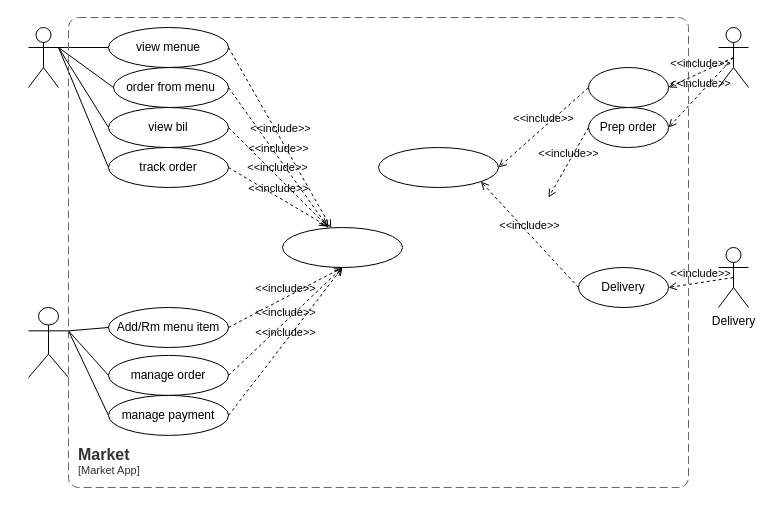
This 772x505 diagram has some shape labels left out. Each missing label, with the centre of its shape:
Admin: the point at 48,342
Chef: the point at 733,57
Customer: the point at 43,57
login: the point at 342,247
Recive order: the point at 438,167
View order: the point at 628,87
